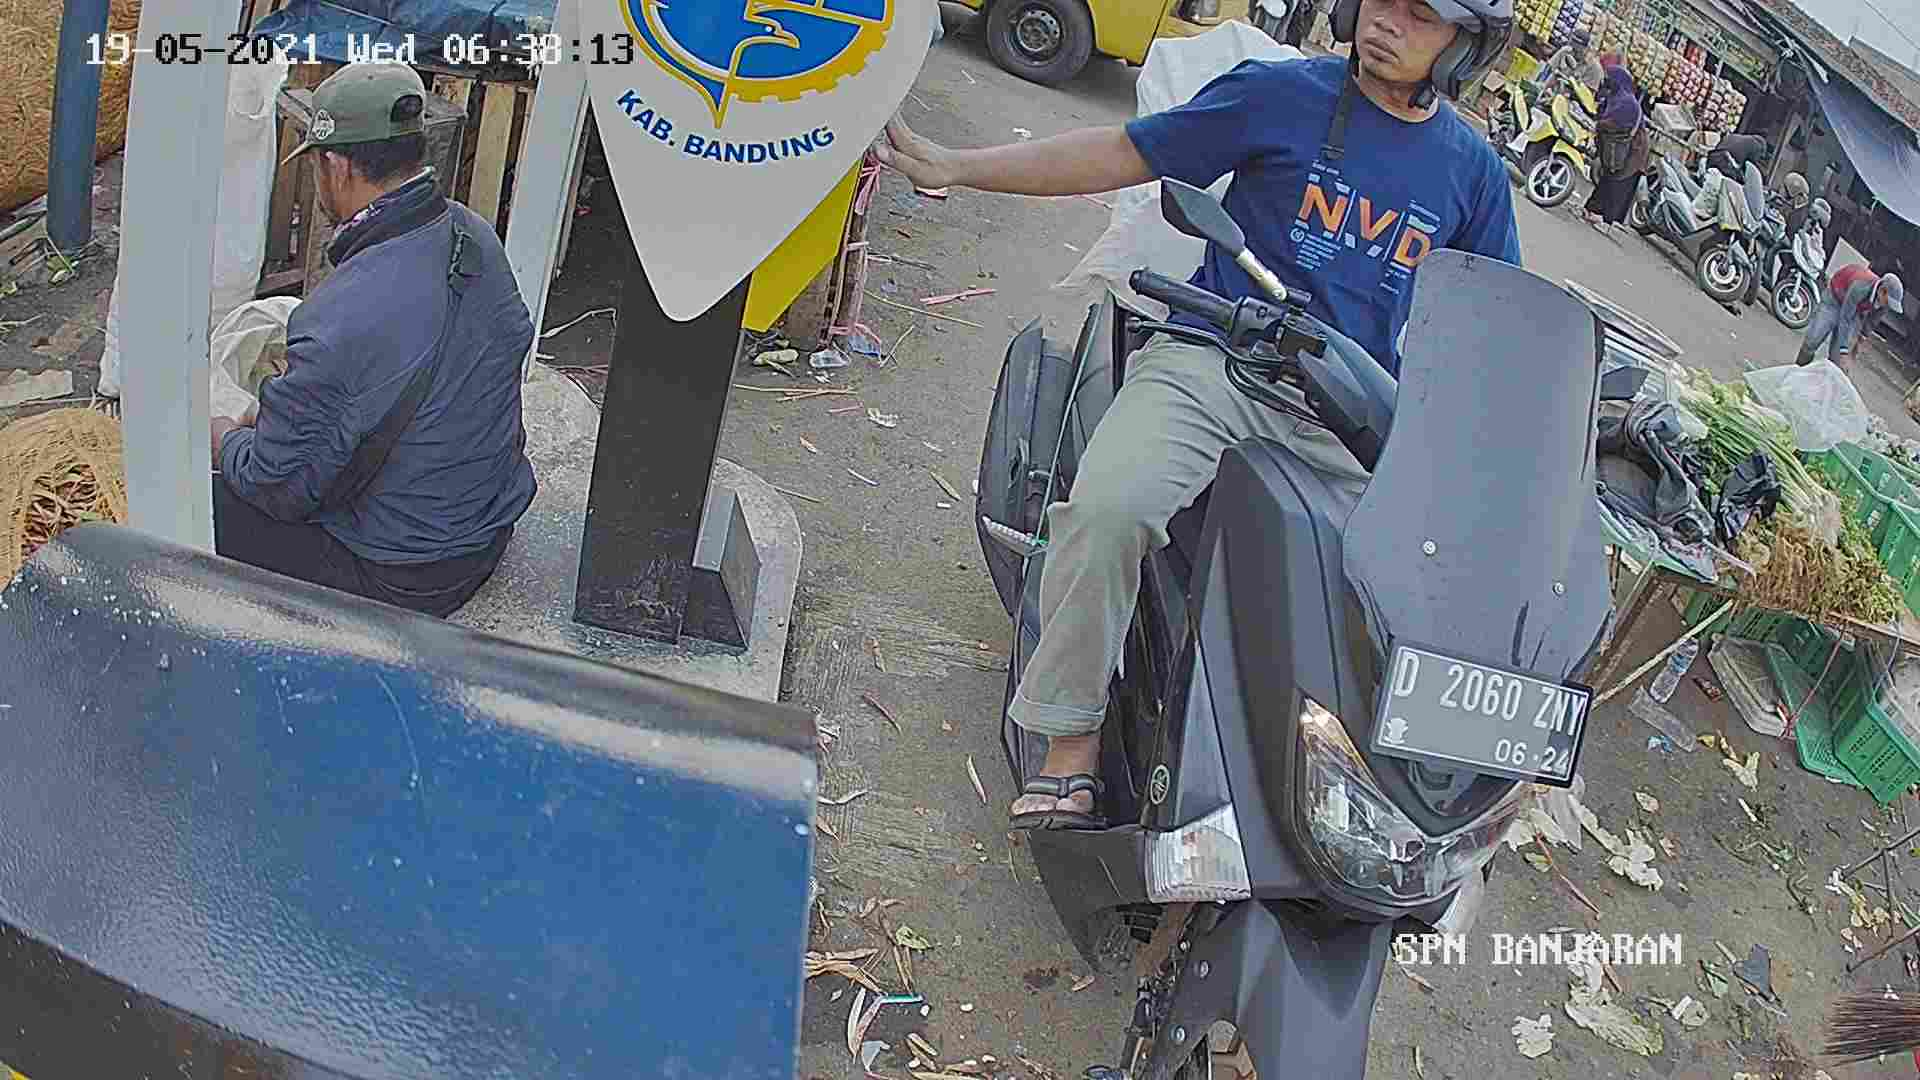motor: (945, 269, 1627, 1080)
